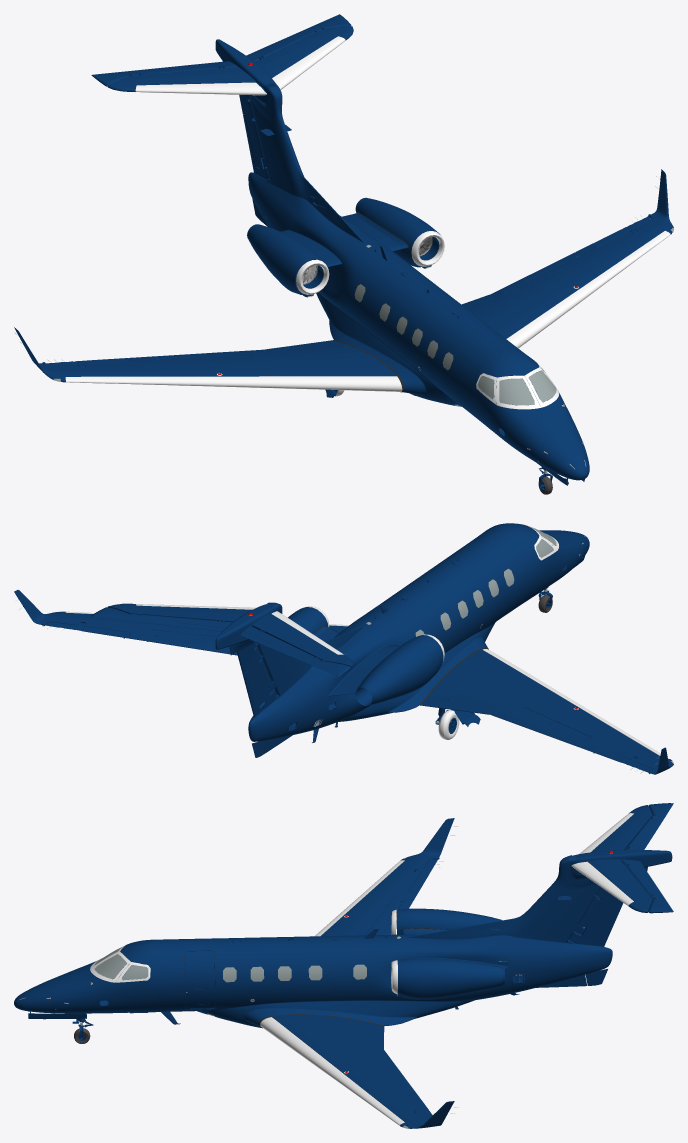
The model's file is phenom.glb.
3 renders of one model, top to bottom at view 1: azimuth 30°, elevation 25°; view 2: azimuth 150°, elevation 25°; view 3: azimuth 270°, elevation 25°, orthographic. The views are drawn at different scales.
Parts seen in each view (by area): view 1: paint_body_geo1, chrome_body_geo1, Glass_windows_geo1; view 2: paint_body_geo1, chrome_body_geo1, Glass_windows_geo1, Tyres_rear_geo1; view 3: paint_body_geo1, chrome_body_geo1, Glass_windows_geo1, paint_body_door_geo1.
Boxes of the visible parts, x1=… form: paint_body_geo1: x1=14, y1=14, x2=673, y2=490; chrome_body_geo1: x1=65, y1=36, x2=670, y2=409; Glass_windows_geo1: x1=53, y1=214, x2=673, y2=406; paint_body_geo1: x1=14, y1=523, x2=673, y2=774; chrome_body_geo1: x1=65, y1=525, x2=669, y2=758; Glass_windows_geo1: x1=43, y1=526, x2=673, y2=773; Tyres_rear_geo1: x1=438, y1=710, x2=459, y2=739; paint_body_geo1: x1=14, y1=803, x2=673, y2=1128; chrome_body_geo1: x1=90, y1=813, x2=633, y2=1125; Glass_windows_geo1: x1=94, y1=857, x2=439, y2=1128; paint_body_door_geo1: x1=184, y1=951, x2=215, y2=1010.
Size of the model in its own units: 2.78 by 0.8813 by 2.74.
